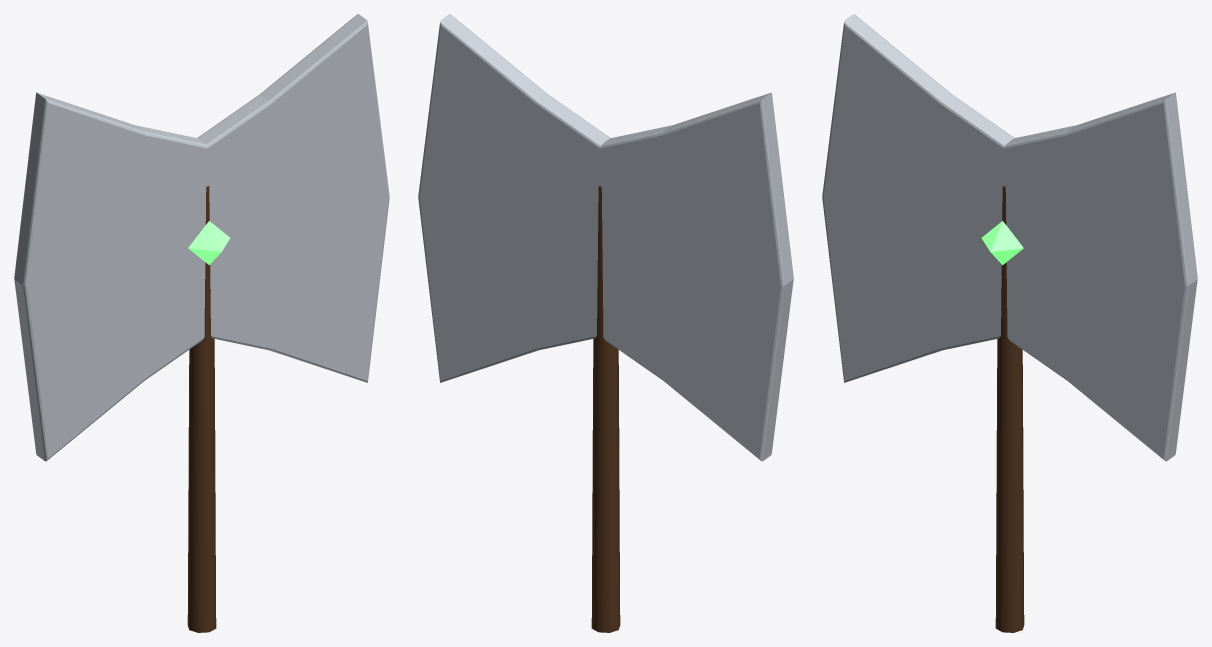
The model's file is axe_f3_a238dff8.glb.
3 renders of one model, left to right at view 1: azimuth 30°, elevation 25°; view 2: azimuth 150°, elevation 25°; view 3: azimuth 330°, elevation 25°, orthographic.
Parts seen in each view (by area): view 1: m5_ow80_, m0_ow80_, m4_; view 2: m5_ow80_, m0_ow80_; view 3: m5_ow80_, m0_ow80_, m4_.
Boxes of the visible parts, bbox=[...] form: m5_ow80_: bbox=[14, 14, 389, 461]; m0_ow80_: bbox=[187, 186, 216, 632]; m4_: bbox=[188, 221, 230, 265]; m5_ow80_: bbox=[418, 14, 793, 461]; m0_ow80_: bbox=[591, 186, 620, 632]; m5_ow80_: bbox=[822, 14, 1197, 461]; m0_ow80_: bbox=[995, 186, 1024, 632]; m4_: bbox=[981, 221, 1023, 265].
Bounding box in the file's own units: 1.72 × 2.57 × 0.22.
